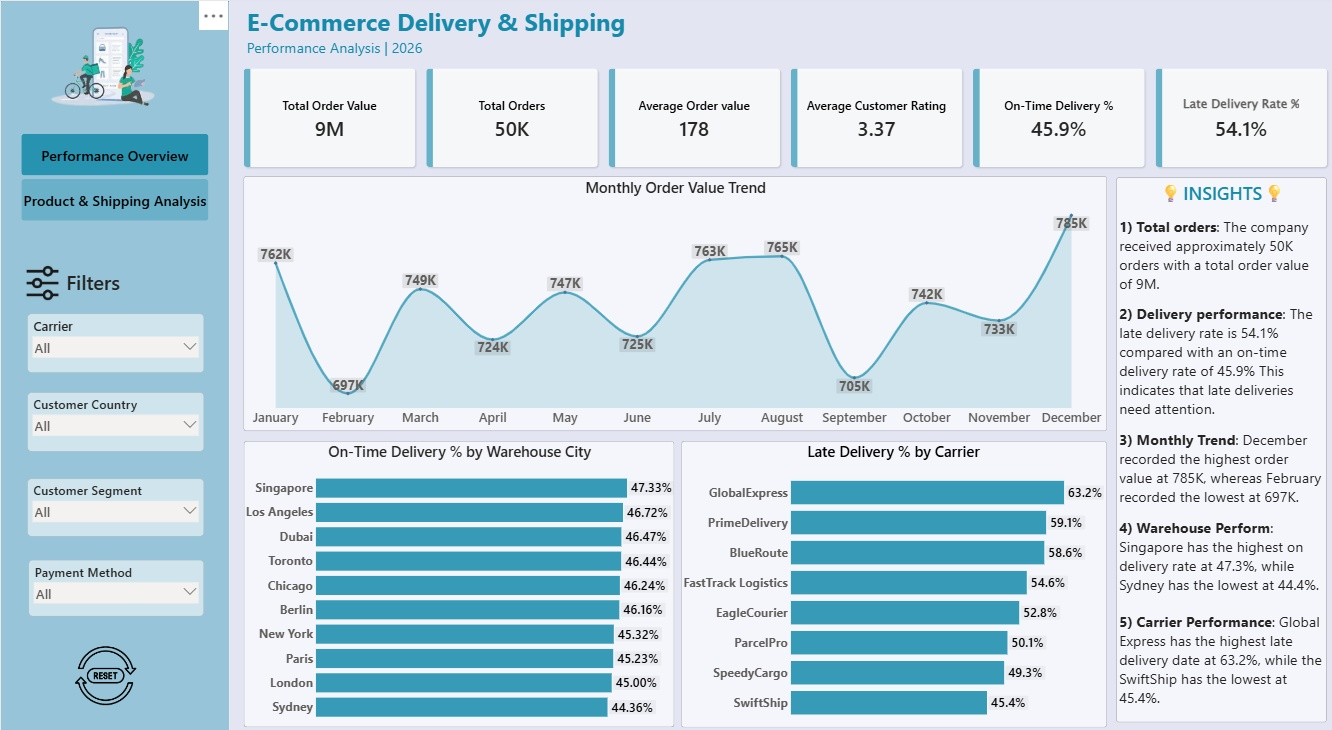

This screenshot's page, from the dashboard's own definition file:
{"tool":"powerbi","page":{"name":"Performance Overview","canvas":[4000,2200],"ordinal":0},"visuals":[{"type":"shape","box":[728.6,526.8,2581.9,760.1],"z":0},{"type":"shape","box":[3336.6,530.6,630.1,1647.2],"z":0,"group":"g1"},{"type":"image","box":[63.5,751,127,190.6],"z":0,"group":"g2"},{"type":"shape","box":[2037.8,1320.8,1272,855.4],"z":0,"group":"g3"},{"type":"shape","box":[0,0,686.8,2200.2],"z":1000},{"type":"textbox","box":[164.4,799.6,242.9,89.7],"z":1000,"group":"g2"},{"type":"shape","box":[728,1320.8,1286.8,854.8],"z":1000,"group":"g4"},{"type":"lineChart","title":"Monthly Order Value Trend","fields":{"Category":["E-commerce_Delivery_Shipping_Data_2026.order_date.Variation.Date Hierarchy.Month"],"Y":["E-commerce_Delivery_Shipping_Data_2026.Total Order Value"]},"box":[730.1,527.5,2579.7,761.6],"z":2000},{"type":"cardVisual","fields":{"Data":["E-commerce_Delivery_Shipping_Data_2026.Total Order Value","E-commerce_Delivery_Shipping_Data_2026.Total Orders","E-commerce_Delivery_Shipping_Data_2026.Average Order value","E-commerce_Delivery_Shipping_Data_2026.Average Customer Rating","E-commerce_Delivery_Shipping_Data_2026.On-Time Delivery %%","All_Measures.Late Delivery Rate %"]},"box":[686.8,174.6,3313.9,353.1],"z":3000},{"type":"textbox","box":[732.3,11.2,1154.6,183.1],"z":4000},{"type":"group","id":"g1","title":"Group 1","box":[3336.6,530.6,631.5,1647.8],"z":5000},{"type":"image","box":[37.4,0,556.7,377.4],"z":6000},{"type":"pageNavigator","box":[63.5,399.8,560.5,261.6],"z":7000},{"type":"group","id":"g2","title":"Group 2","box":[63.5,751,343.8,190.6],"z":8000},{"type":"textbox","box":[3338,531.2,630.1,1647.2],"z":9000,"group":"g1"},{"type":"slicer","fields":{"Values":["E-commerce_Delivery_Shipping_Data_2026.customer_country"]},"box":[82.2,1173,526.8,175.6],"z":9000},{"type":"slicer","fields":{"Values":["E-commerce_Delivery_Shipping_Data_2026.customer_segment"]},"box":[82.2,1431.1,526.8,171.9],"z":10000},{"type":"slicer","fields":{"Values":["E-commerce_Delivery_Shipping_Data_2026.payment_method"]},"box":[85.9,1673.9,523.1,168.1],"z":11000},{"type":"image","box":[224.2,1931.7,183.1,175.6],"z":12000},{"type":"slicer","fields":{"Values":["E-commerce_Delivery_Shipping_Data_2026.carrier"]},"box":[80.9,939.5,526.8,175.6],"z":13000},{"type":"group","id":"g3","title":"Group 3","box":[2037.5,1320.8,1272,859.3],"z":14000},{"type":"group","id":"g4","title":"Group 4","box":[728,1320.8,1287.1,859.3],"z":15000},{"type":"clusteredBarChart","title":"On-Time Delivery % by Warehouse City","fields":{"Category":["E-commerce_Delivery_Shipping_Data_2026.warehouse_city"],"Y":["All_Measures.On-Time Delivery %"]},"box":[728.2,1321.5,1290.6,858.6],"z":15000,"group":"g4"},{"type":"clusteredBarChart","title":"Late Delivery % by Carrier","fields":{"Category":["E-commerce_Delivery_Shipping_Data_2026.carrier"],"Y":["All_Measures.Late Delivery Rate %"]},"box":[2037.5,1322.4,1268.3,859.3],"z":16000,"group":"g3"}]}

Visuals, with their boxes on the page's 4000x2200 design canvas (x1, y1, x2, y2). These are canvas units, not pixel positions in the 1332x730 screenshot, which may show the page scaled, cropped or inside an application window:
shape: rect(729, 527, 3310, 1287)
shape: rect(3337, 531, 3967, 2178)
image: rect(64, 751, 190, 942)
shape: rect(2038, 1321, 3310, 2176)
shape: rect(0, 0, 687, 2200)
textbox: rect(164, 800, 407, 889)
shape: rect(728, 1321, 2015, 2176)
"Monthly Order Value Trend" lineChart: rect(730, 528, 3310, 1289)
cardVisual - E-commerce_Delivery_Shipping_Data_2026.Total Order Value x E-commerce_Delivery_Shipping_Data_2026.Total Orders: rect(687, 175, 4001, 528)
textbox: rect(732, 11, 1887, 194)
"Group 1" group: rect(3337, 531, 3968, 2178)
image: rect(37, 0, 594, 377)
pageNavigator: rect(64, 400, 624, 661)
"Group 2" group: rect(64, 751, 407, 942)
textbox: rect(3338, 531, 3968, 2178)
slicer - E-commerce_Delivery_Shipping_Data_2026.customer_country: rect(82, 1173, 609, 1349)
slicer - E-commerce_Delivery_Shipping_Data_2026.customer_segment: rect(82, 1431, 609, 1603)
slicer - E-commerce_Delivery_Shipping_Data_2026.payment_method: rect(86, 1674, 609, 1842)
image: rect(224, 1932, 407, 2107)
slicer - E-commerce_Delivery_Shipping_Data_2026.carrier: rect(81, 940, 608, 1115)
"Group 3" group: rect(2038, 1321, 3310, 2180)
"Group 4" group: rect(728, 1321, 2015, 2180)
"On-Time Delivery % by Warehouse City" clusteredBarChart: rect(728, 1322, 2019, 2180)
"Late Delivery % by Carrier" clusteredBarChart: rect(2038, 1322, 3306, 2182)
